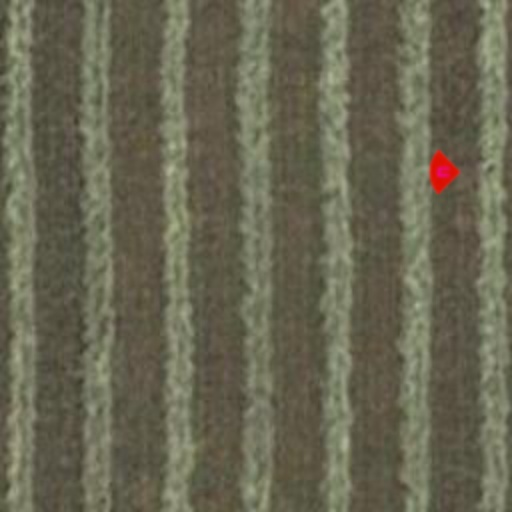quarter_circle: (420, 150, 464, 194)
